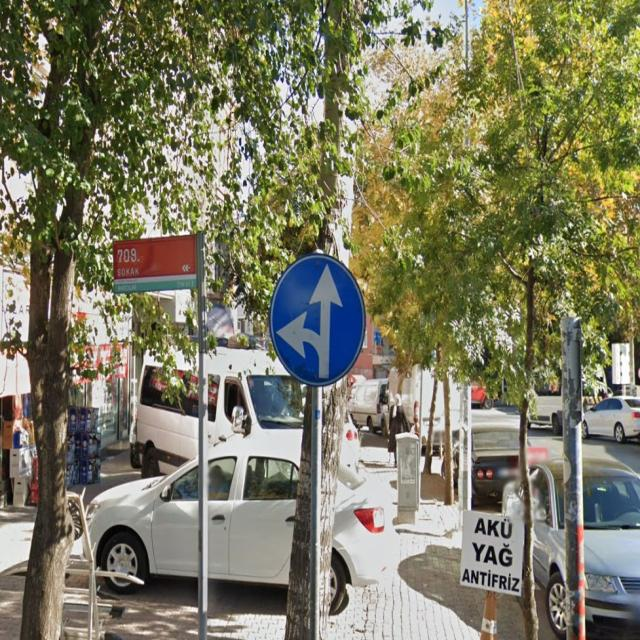ilerisol: (271, 254, 368, 387)
